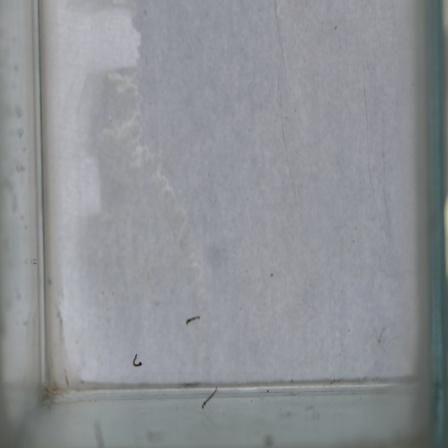Jentik-Nyamuk: (199, 384, 219, 412), (180, 311, 203, 328), (130, 349, 144, 373)
